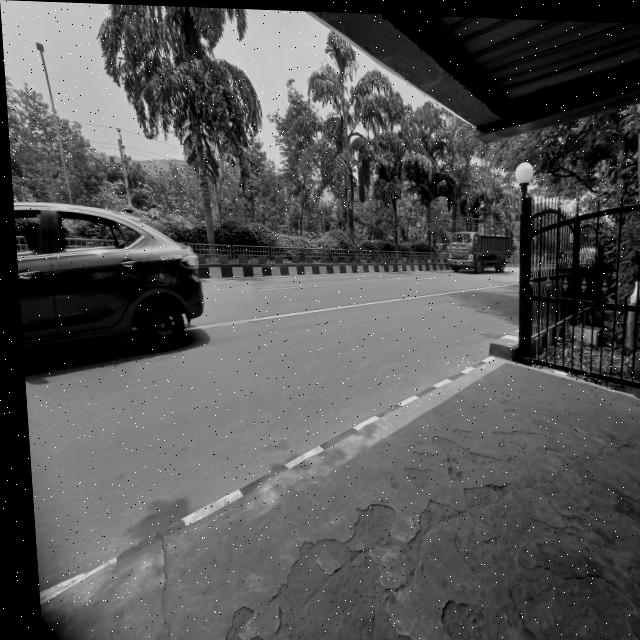car: (9, 172, 223, 388)
